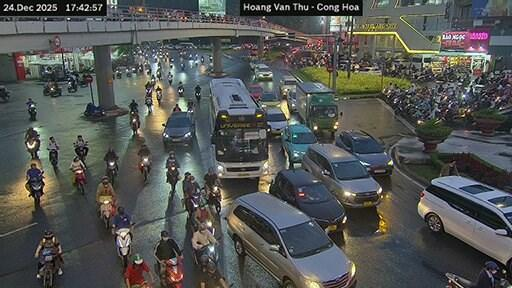motorbike: (38, 248, 56, 287), (160, 256, 182, 287), (115, 228, 131, 266), (192, 243, 217, 265), (28, 171, 42, 203), (166, 165, 179, 198), (99, 196, 111, 229), (445, 273, 473, 287), (188, 189, 201, 217), (208, 184, 220, 212), (138, 156, 150, 180), (83, 103, 105, 116), (495, 270, 511, 287), (74, 169, 85, 193), (105, 158, 115, 184), (25, 139, 38, 157), (48, 148, 57, 167), (42, 85, 60, 94), (76, 145, 85, 162), (0, 85, 9, 100), (144, 97, 152, 112), (28, 103, 35, 120), (131, 116, 137, 134), (67, 81, 76, 91), (144, 86, 152, 97), (77, 77, 87, 85), (186, 100, 192, 112), (130, 106, 137, 116), (125, 67, 131, 76), (156, 90, 160, 103), (115, 70, 121, 77), (178, 85, 182, 95), (167, 76, 172, 84), (150, 76, 154, 85), (195, 90, 198, 102), (156, 72, 160, 80), (137, 66, 141, 72), (201, 55, 204, 62), (181, 63, 184, 70), (195, 59, 198, 66), (131, 67, 135, 72), (208, 55, 211, 61)
